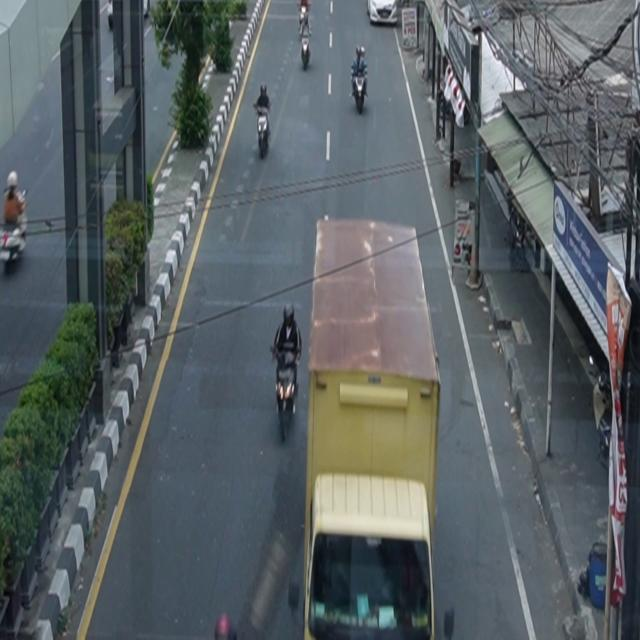bus: (300, 218, 442, 640)
car: (367, 1, 398, 26)
